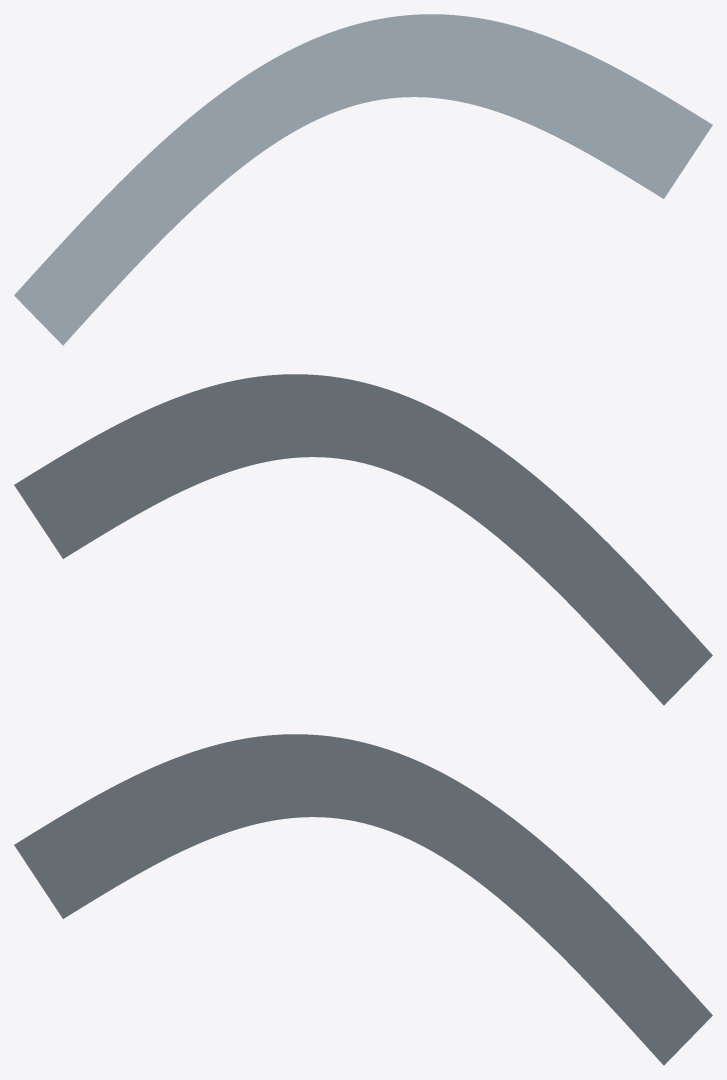
File: 2082_ForwardAttack_Cryo_GroupBlade_37.fbx
3 renders of one model, top to bottom at view 1: azimuth 30°, elevation 25°; view 2: azimuth 150°, elevation 25°; view 3: azimuth 330°, elevation 25°, orthographic.
Visible parts, largest first — view 1: PART_CryoBody_37, PART_CryoBrightEdge_37; view 2: PART_CryoBody_37, PART_CryoBrightEdge_37; view 3: PART_CryoBody_37, PART_CryoBrightEdge_37.
Part boxes in pixels (bbox=[...]): PART_CryoBody_37: bbox=[14, 14, 712, 345]; PART_CryoBrightEdge_37: bbox=[35, 48, 691, 324]; PART_CryoBody_37: bbox=[14, 374, 712, 705]; PART_CryoBrightEdge_37: bbox=[35, 408, 691, 683]; PART_CryoBody_37: bbox=[14, 734, 712, 1065]; PART_CryoBrightEdge_37: bbox=[35, 768, 692, 1043].
Bounding box in the file's own units: 172 × 58.83 × 9.58e-06.
